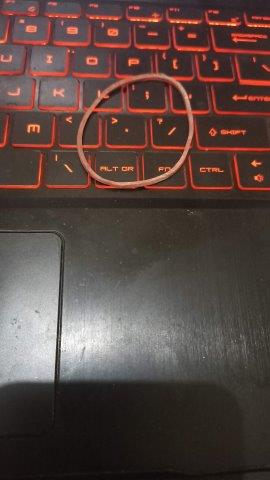karet: (77, 74, 194, 187)
